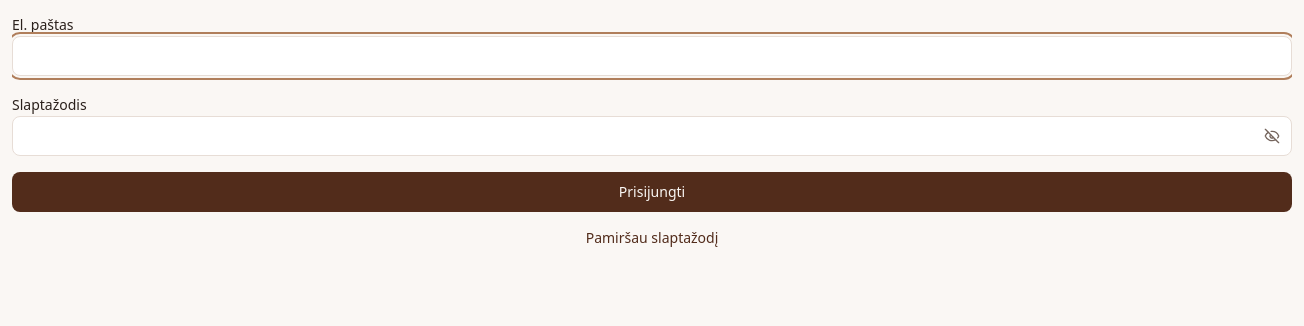
Test case: LoginForm › shows an invalid-credentials message
The image size is (1304, 326).
Type "a@example.com" into the field labelled "El. paštas" at (652, 56), box [12,36,1292,76]
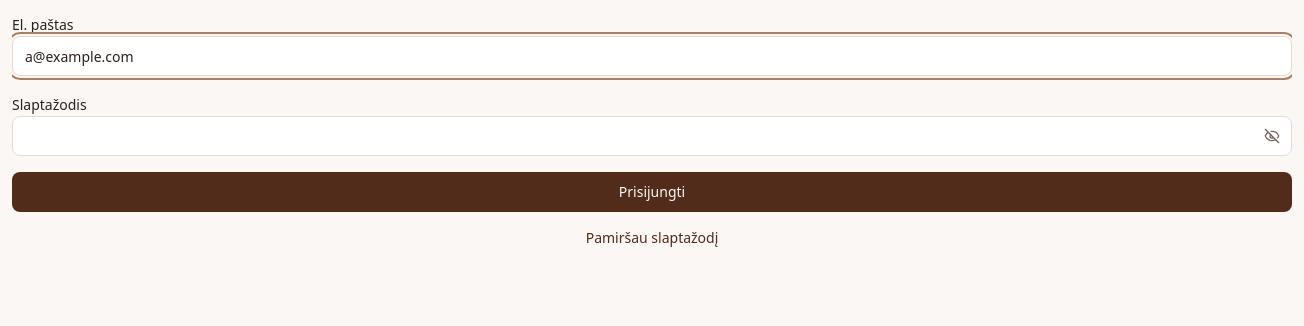
Type "password" into the password field labelled "Slaptažodis" at (652, 136), box [12,116,1292,156]
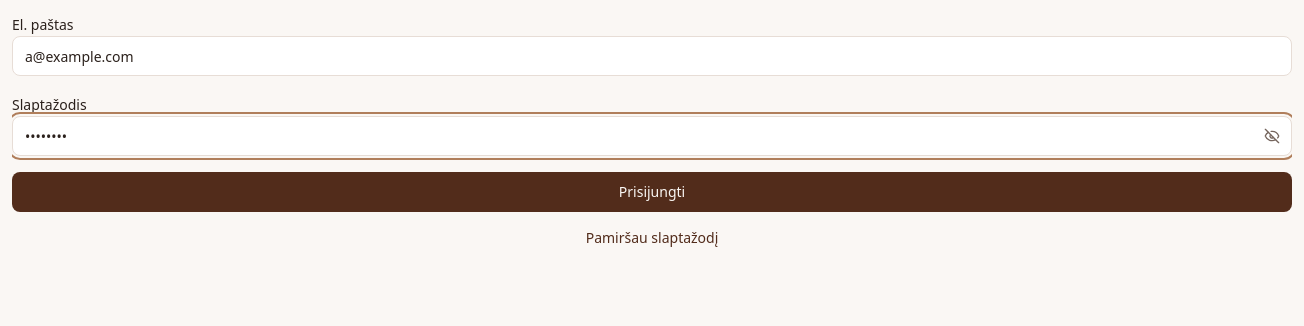
Click the button "Prisijungti" at (652, 192), box [12,172,1292,212]
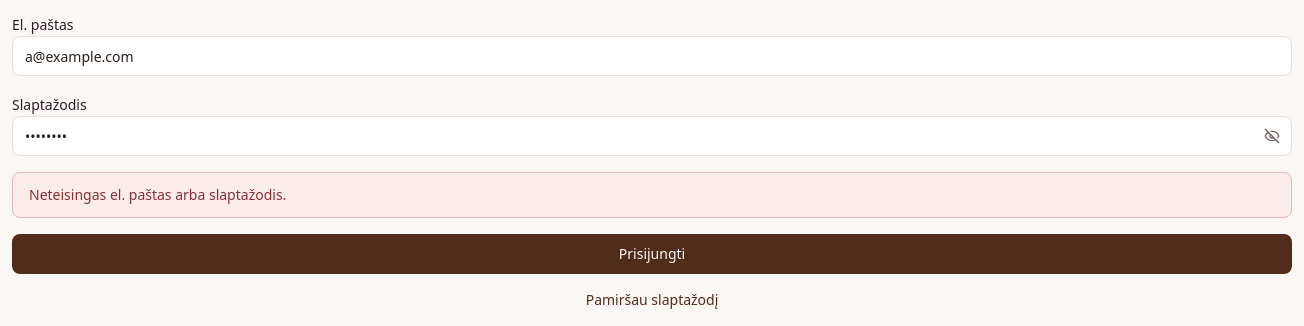
Check: the text "Neteisingas el. paštas arba slaptažodis." is shown, box [12,172,1292,218]
